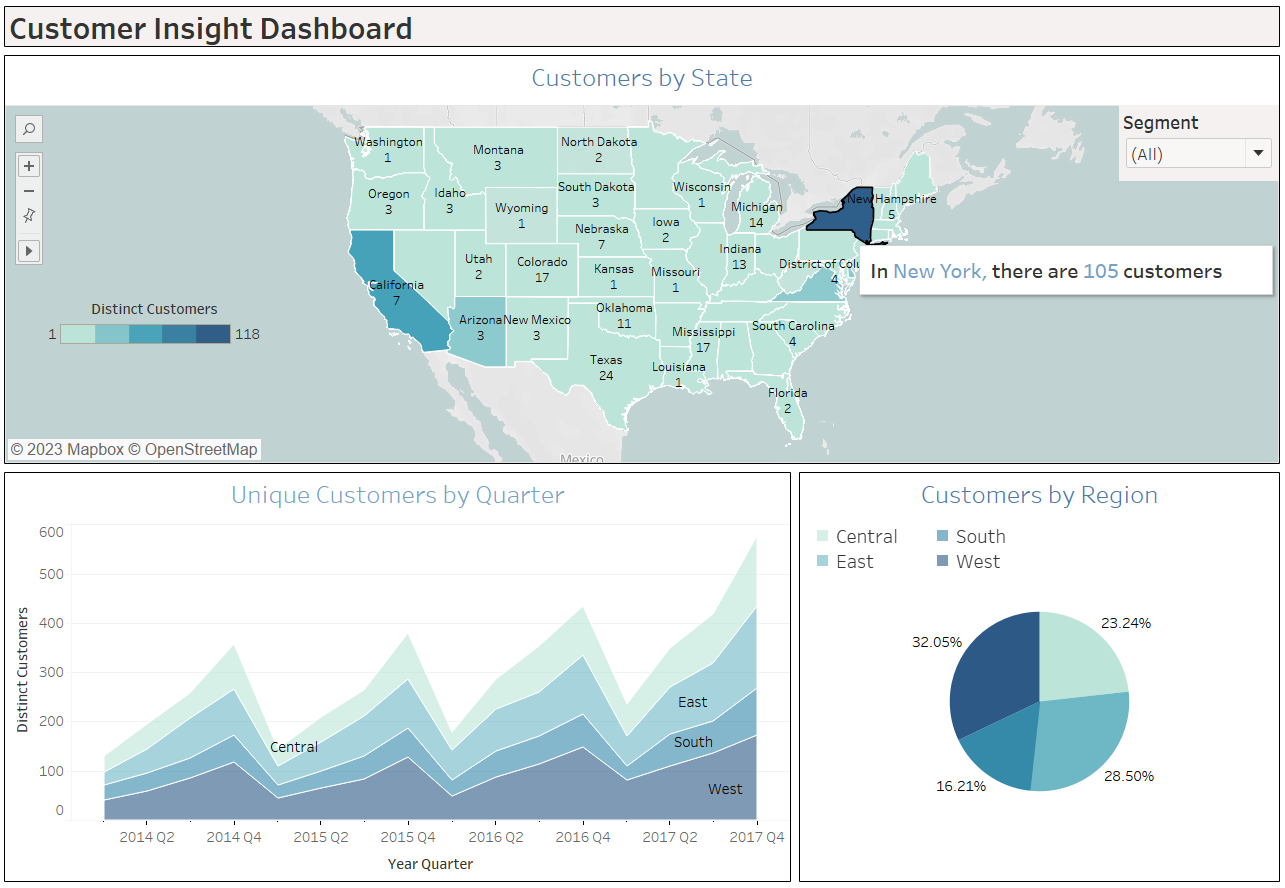

What the dashboard file says about the page in this screenshot:
{"tool":"tableau","page":{"name":"Final Dashboard","canvas":[1300,900],"ordinal":0},"visuals":[{"type":"worksheet","box":[0,0,1300,900]},{"type":"worksheet","param":"vert","box":[8,8,1284,884]},{"type":"worksheet","box":[8,8,1284,49]},{"type":"worksheet","param":"horz","box":[8,57,1284,835]},{"type":"worksheet","box":[8,57,1284,835]},{"type":"worksheet","title":"state cust","mark":"Multipolygon","box":[8,57,1284,417.5]},{"type":"worksheet","param":"vert","box":[1127,111,160,76]},{"type":"worksheet","title":"state cust","mark":"Multipolygon","param":"[federated.05eys13003itq50zlymja0l4ug1a].[none:Segment:nk]","box":[1127,111,160,70]},{"type":"worksheet","title":"state cust","mark":"Multipolygon","param":"[federated.05eys13003itq50zlymja0l4ug1a].[ctd:Customer ID:qk]","box":[52,305,221,100]},{"type":"worksheet","param":"horz","box":[8,474.5,1284,417.5]},{"type":"worksheet","title":"cust trend per quarter","mark":"Area","rows":["Customer ID"],"cols":["Order Date"],"box":[8,474.5,795,417.5]},{"type":"worksheet","title":"region cust","mark":"Pie","box":[803,474.5,489,417.5]},{"type":"worksheet","title":"cust trend per quarter","mark":"Area","rows":["Customer ID"],"cols":["Order Date"],"param":"[federated.05eys13003itq50zlymja0l4ug1a].[none:Region:nk]","box":[818,503,402,81]}]}

Visuals, with their boxes in screenshot pixels (x1, y1, x2, y2), scaled from the page's 1300x900 canvas onto the 1285x888 screenshot:
worksheet: locate(0, 0, 1284, 887)
worksheet: locate(8, 8, 1277, 880)
worksheet: locate(8, 8, 1277, 56)
worksheet: locate(8, 56, 1277, 880)
worksheet: locate(8, 56, 1277, 880)
"state cust" worksheet (Multipolygon marks): locate(8, 56, 1277, 468)
worksheet: locate(1114, 110, 1272, 185)
"state cust" worksheet (Multipolygon marks): locate(1114, 110, 1272, 179)
"state cust" worksheet (Multipolygon marks): locate(51, 301, 270, 400)
worksheet: locate(8, 468, 1277, 880)
"cust trend per quarter" worksheet (Area marks): locate(8, 468, 794, 880)
"region cust" worksheet (Pie marks): locate(794, 468, 1277, 880)
"cust trend per quarter" worksheet (Area marks): locate(809, 496, 1206, 576)
